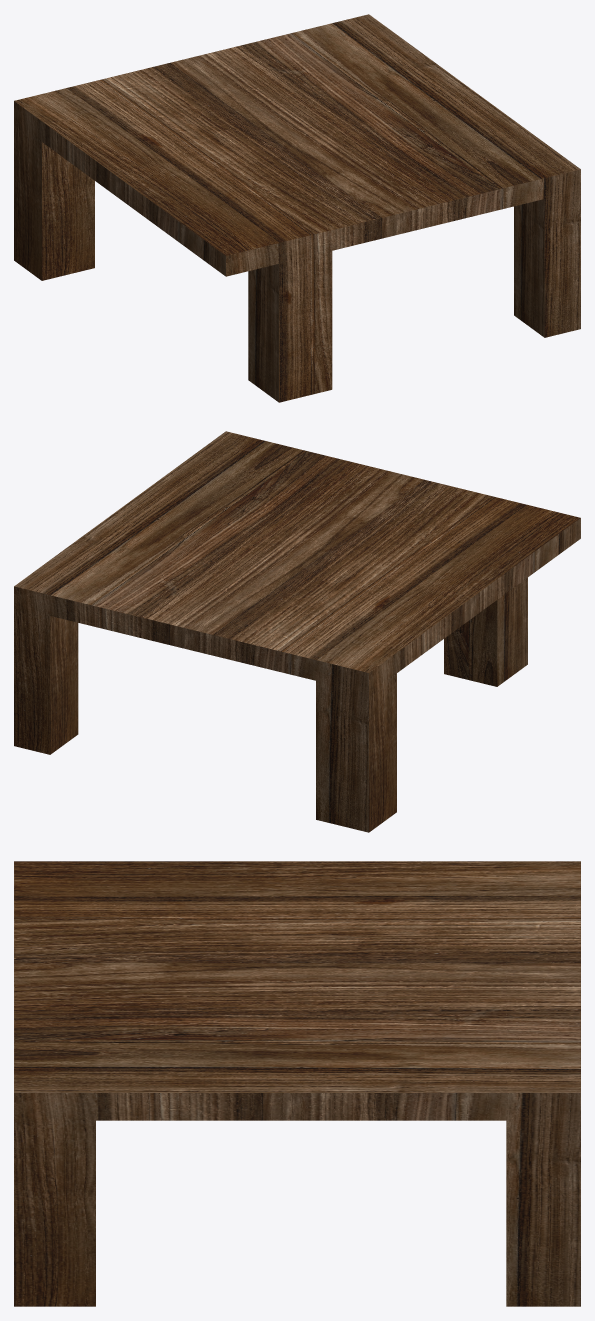
The model's file is Table.fbx.
The picture shows the model from 3 angles, top to bottom: view 1: azimuth 30°, elevation 25°; view 2: azimuth 150°, elevation 25°; view 3: azimuth 270°, elevation 25°; orthographic projection. The views are drawn at different scales.
Visible parts, largest first — view 1: Box001; view 2: Box001; view 3: Box001.
Boxes of the visible parts, x1,y1,x2,y2 form: Box001: (14, 14, 580, 402); Box001: (14, 431, 580, 832); Box001: (14, 861, 580, 1306).
Size of the model in its own units: 134 by 57.45 by 138.
Materials: 1 (1 with a texture image).
